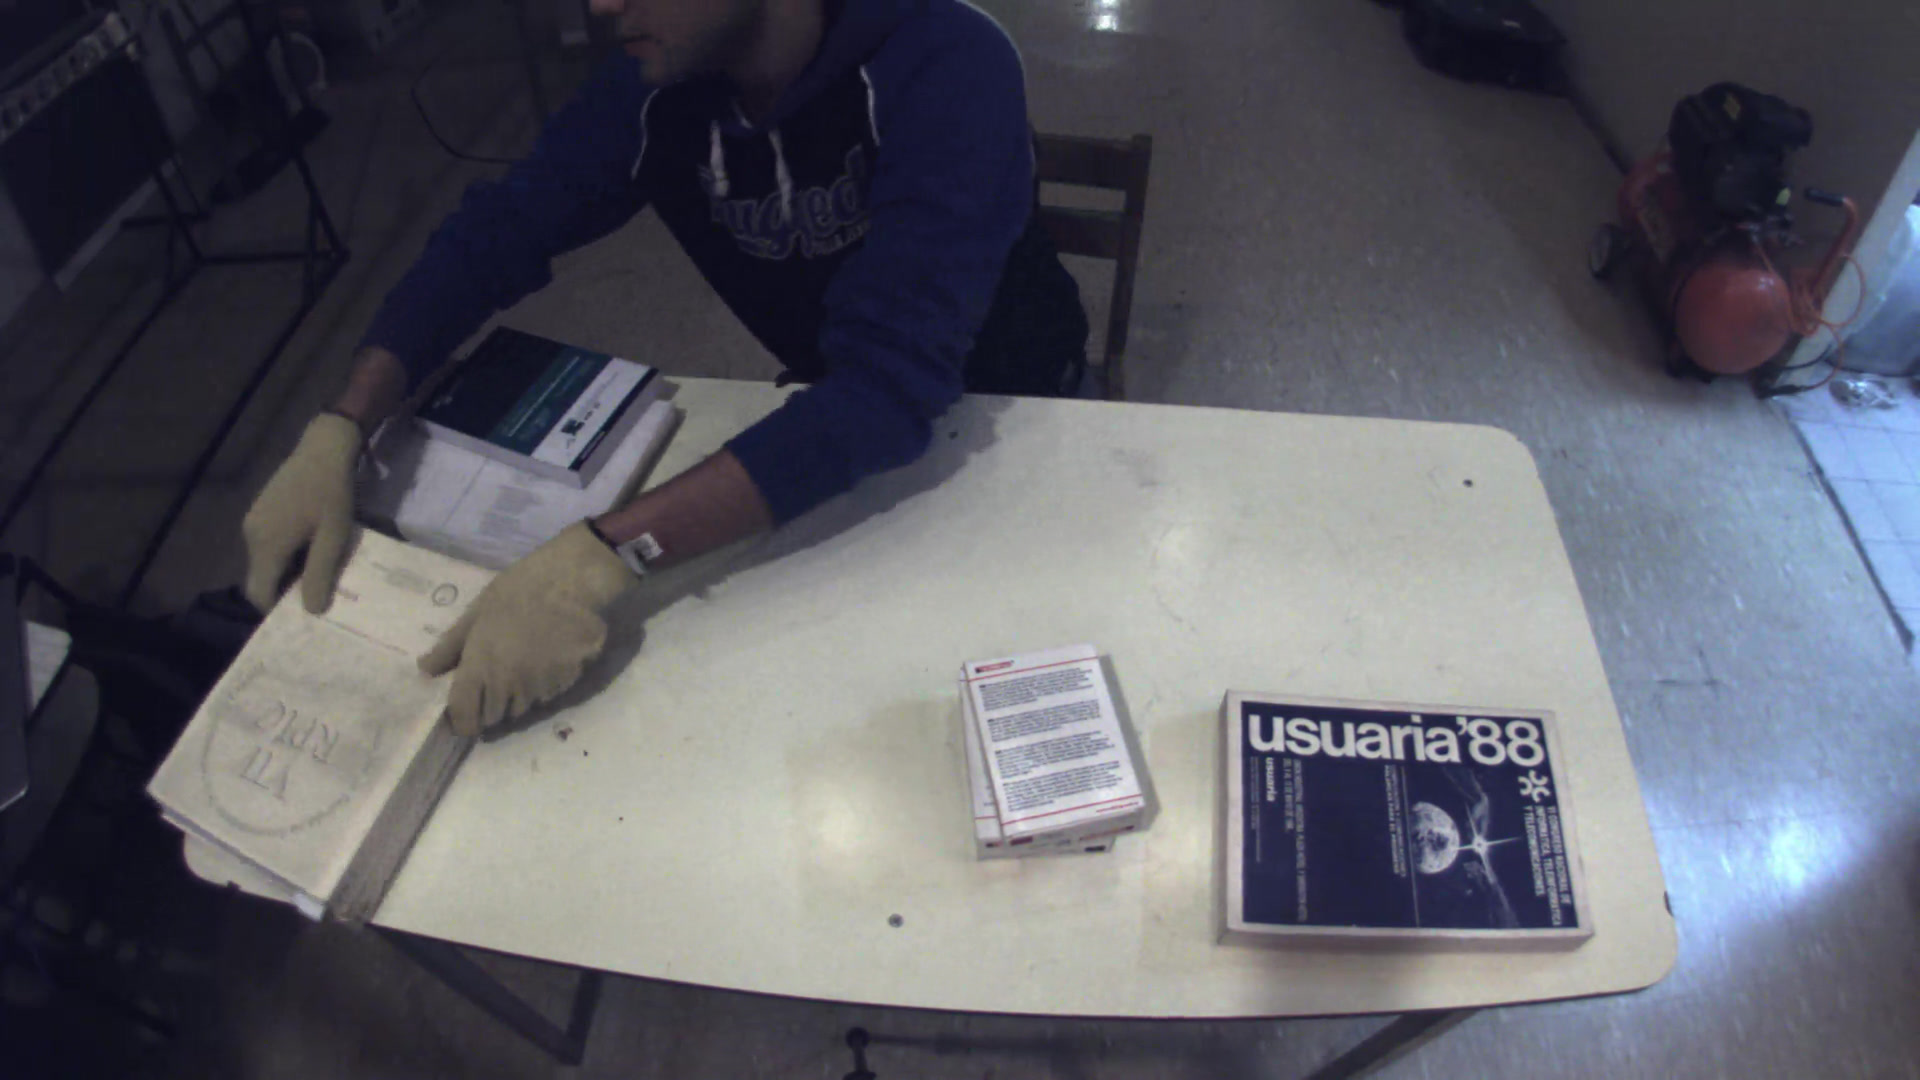hand: (407, 516, 640, 737), (222, 414, 376, 625)
